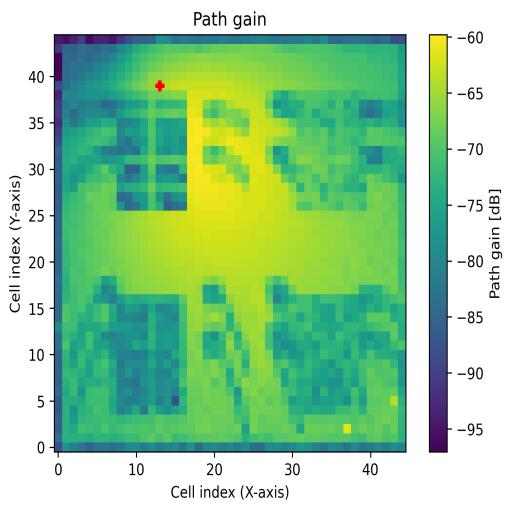Concrete: (298, 92, 368, 211)
Glass: (115, 101, 187, 211)
Metal: (288, 295, 368, 413)
Wood: (109, 294, 187, 414)
